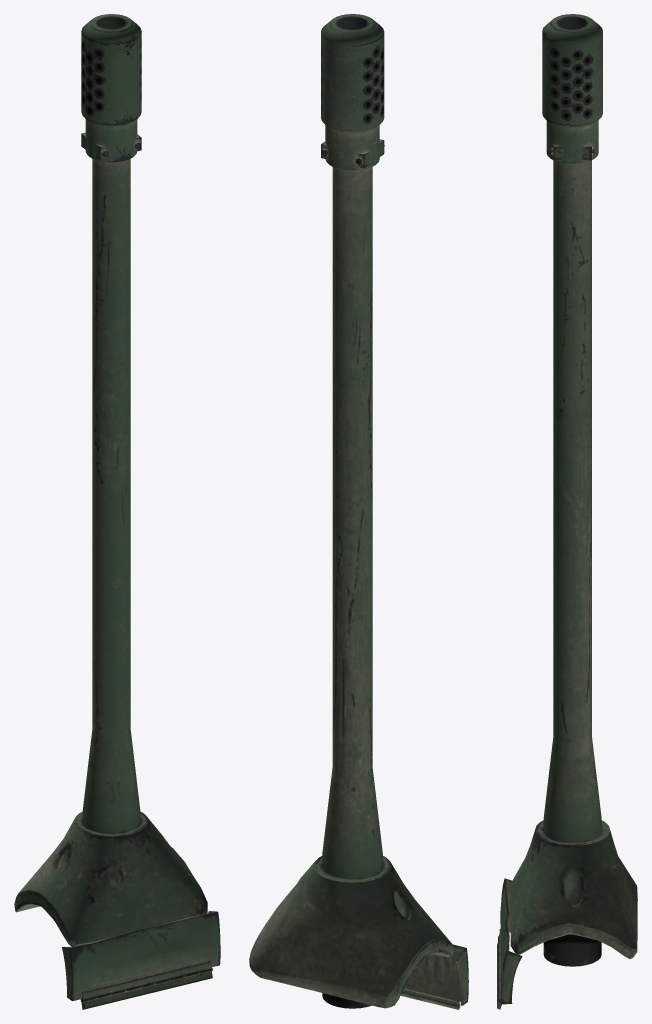
The model's file is Gun_01.glb.
3 renders of one model, left to right at view 1: azimuth 30°, elevation 25°; view 2: azimuth 150°, elevation 25°; view 3: azimuth 270°, elevation 25°, orthographic. The views are drawn at different scales.
Parts seen in each view (by area): view 1: set_0_group_0; view 2: set_0_group_0; view 3: set_0_group_0.
Boxes of the visible parts, x1,y1,x2,y2 form: set_0_group_0: [14, 14, 220, 1009]; set_0_group_0: [249, 14, 468, 1009]; set_0_group_0: [497, 14, 637, 1009].
Bounding box in the file's own units: 0.9471 × 5.76 × 0.7695.
Materials: 1 (1 with a texture image).
